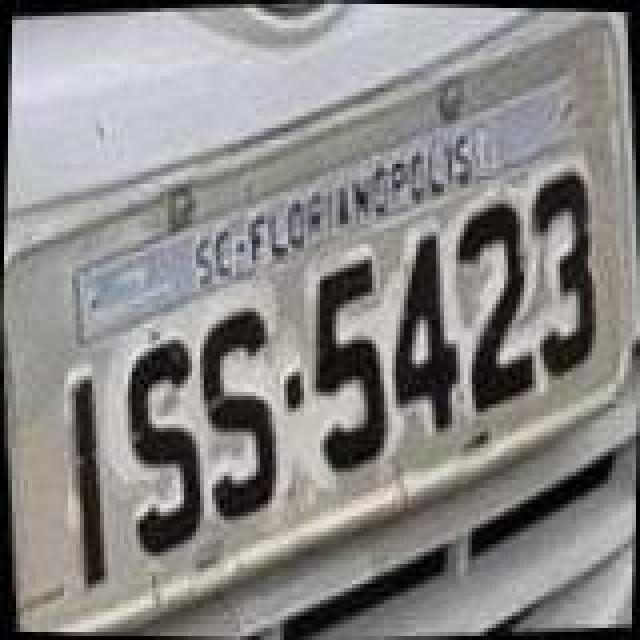1: (60, 368, 120, 592)
2: (444, 196, 548, 416)
3: (518, 166, 606, 378)
4: (376, 224, 472, 440)
5: (296, 250, 396, 478)
S: (112, 332, 216, 568), (184, 298, 288, 530)
